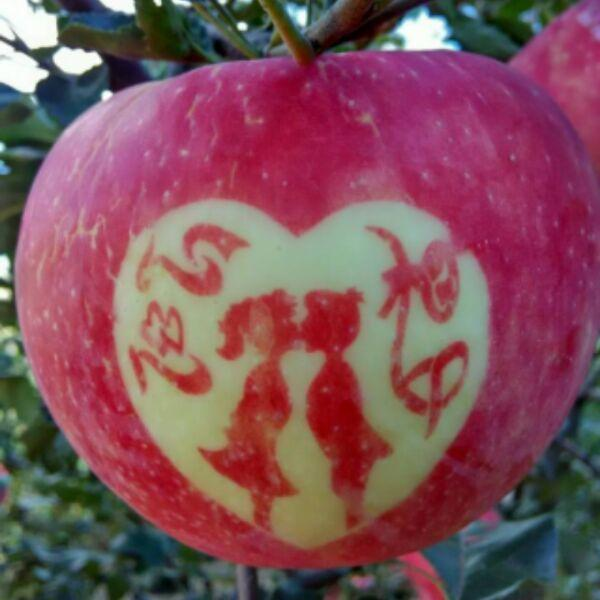apple: (10, 49, 593, 570)
